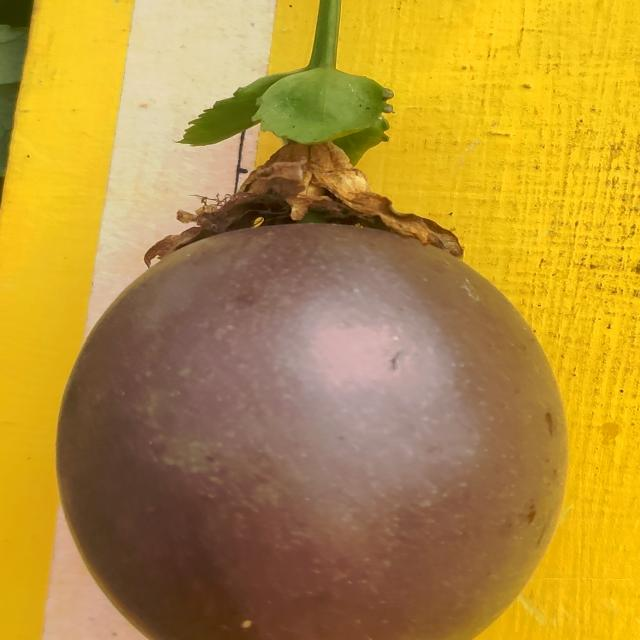Estado-5: (57, 70, 561, 640)
